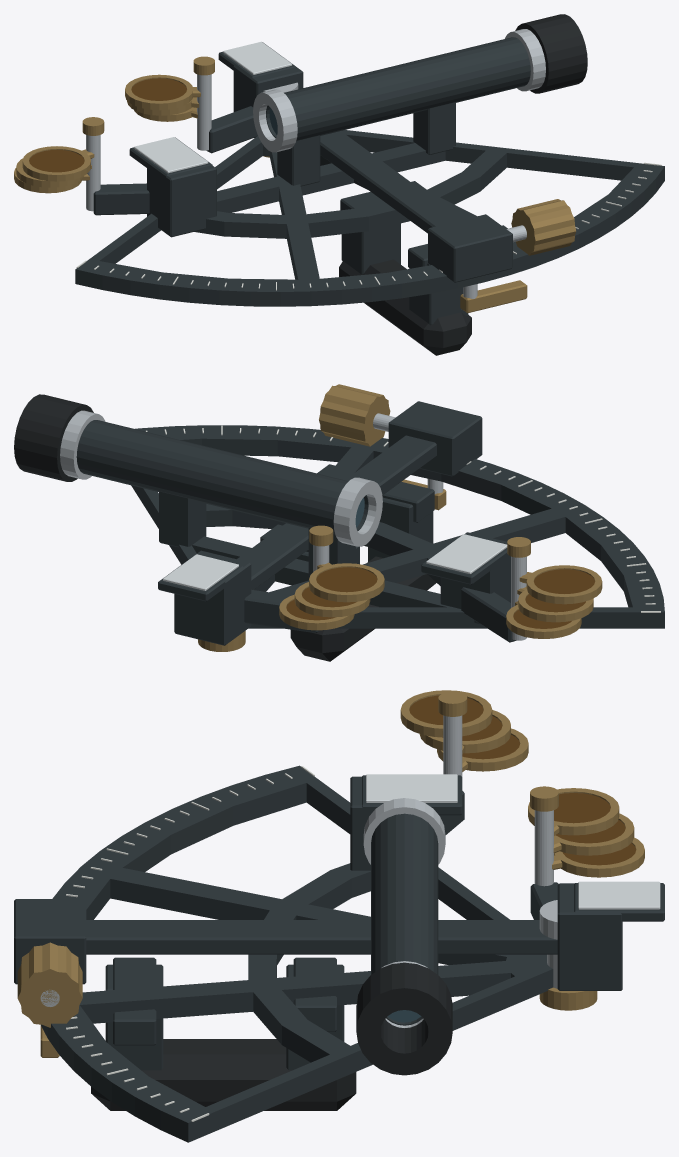
File: A-NEW-20261026-SEXTANT-001_LOD2_R5.glb
3 renders of one model, top to bottom at view 1: azimuth 30°, elevation 25°; view 2: azimuth 150°, elevation 25°; view 3: azimuth 270°, elevation 25°, orthographic. The views are drawn at different scales.
Parts seen in each view (by area): view 1: open cast lattice sector frame, telescope hollow barrel, index arm, arc carriage, horizon mirror foot, rear hand grip, rear eyecup, grooved micrometer drum, rear grip attachment, scope rim, scope fixed support.001, scope fixed support (+17 smaller); view 2: open cast lattice sector frame, telescope hollow barrel, index arm, arc carriage, index mirror foot, rear eyecup, grooved micrometer drum, scope rim, scope fixed support.001, rear hand grip, horizon mirror foot, horizon mirror face (+23 smaller); view 3: open cast lattice sector frame, index arm, telescope hollow barrel, rear hand grip, rear eyecup, index mirror foot, grooved micrometer drum, arc carriage, rear grip casting bridge.001, horizon mirror face, index mirror face, rear grip casting bridge (+22 smaller).
Boxes of the visible parts, x1,y1,x2,y2 form: open cast lattice sector frame: (75, 130, 664, 306); telescope hollow barrel: (266, 37, 530, 140); index arm: (320, 131, 461, 233); arc carriage: (428, 214, 512, 282); horizon mirror foot: (147, 165, 216, 237); rear hand grip: (339, 259, 471, 355); rear eyecup: (515, 14, 587, 93); grooved micrometer drum: (511, 199, 576, 255); rear grip attachment: (341, 223, 400, 274); scope rim: (253, 89, 297, 152); scope fixed support.001: (413, 102, 455, 154); scope fixed support: (277, 135, 320, 186); open cast lattice sector frame: (131, 425, 664, 628); telescope hollow barrel: (76, 420, 368, 534); index arm: (237, 435, 436, 589); arc carriage: (388, 401, 482, 476); index mirror foot: (174, 550, 251, 645); rear eyecup: (14, 394, 93, 481); grooved micrometer drum: (319, 384, 390, 446); scope rim: (333, 477, 382, 546); scope fixed support.001: (159, 491, 206, 547); rear hand grip: (290, 556, 436, 661); horizon mirror foot: (440, 532, 510, 624); horizon mirror face: (426, 534, 507, 574); open cast lattice sector frame: (41, 765, 553, 1142); index arm: (86, 920, 557, 954); telescope hollow barrel: (371, 813, 438, 1025); rear hand grip: (91, 1039, 356, 1110); rear eyecup: (356, 962, 452, 1075); index mirror foot: (557, 883, 622, 990); grooved micrometer drum: (17, 942, 82, 1027); arc carriage: (14, 899, 86, 984); rear grip casting bridge.001: (113, 957, 156, 1045); horizon mirror face: (366, 774, 457, 802); index mirror face: (578, 881, 660, 909); rear grip casting bridge: (293, 957, 336, 1031).
Size of the model in its own units: 0.3508 by 0.122 by 0.27.
